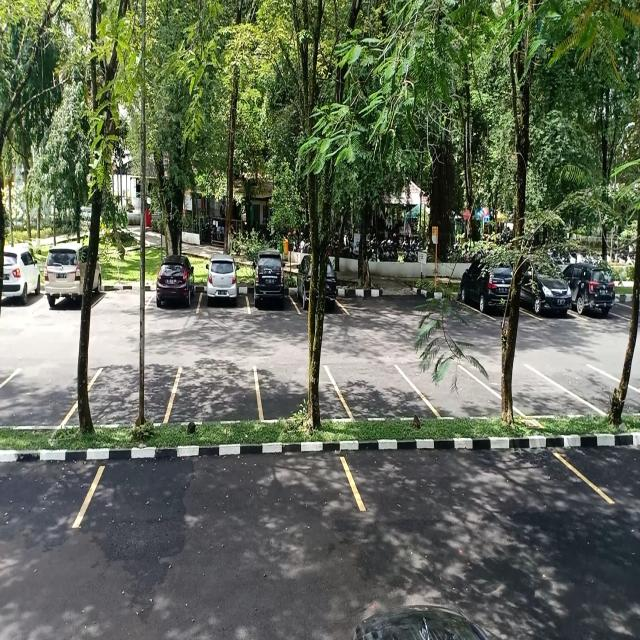empty: (74, 445, 360, 529), (347, 434, 602, 516), (0, 362, 96, 427), (88, 362, 178, 427), (168, 364, 260, 424), (334, 360, 419, 422), (254, 364, 338, 422), (415, 364, 496, 419), (512, 363, 579, 422), (95, 272, 150, 314)
occupied: (44, 243, 103, 312), (196, 256, 251, 316), (461, 247, 511, 312), (247, 251, 296, 314), (147, 256, 201, 313)
